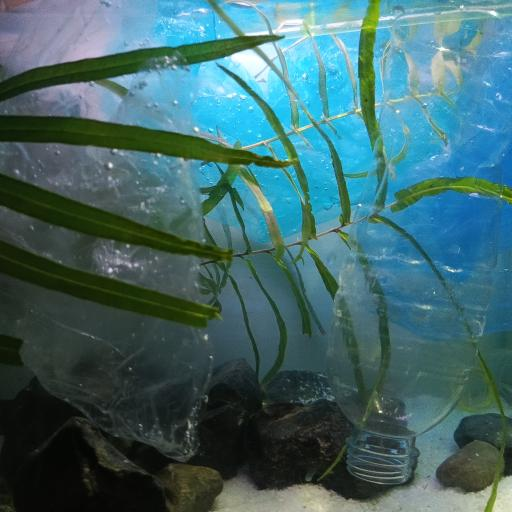plastic_bag: (0, 2, 224, 469), (335, 0, 512, 338), (127, 8, 381, 240)
plastic_bottle: (320, 4, 501, 485)
